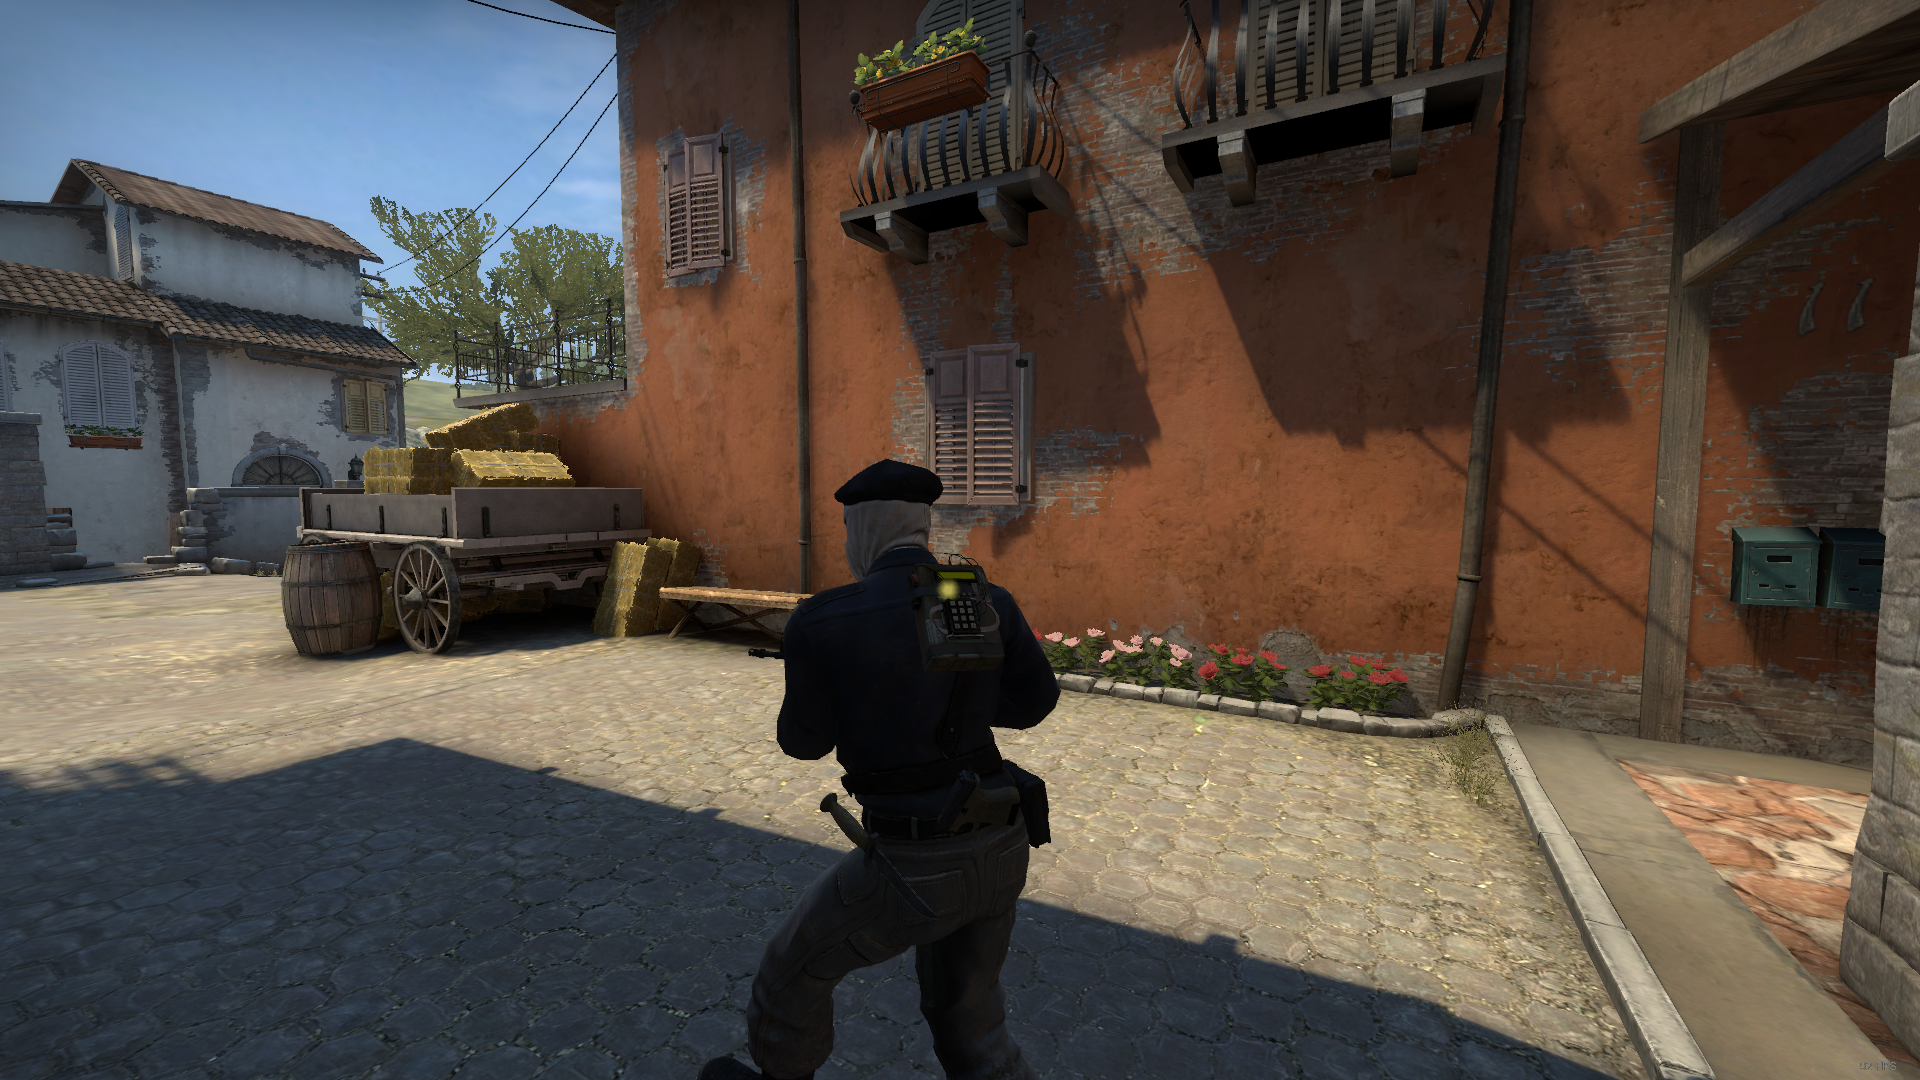t: (748, 458, 1056, 1080)
